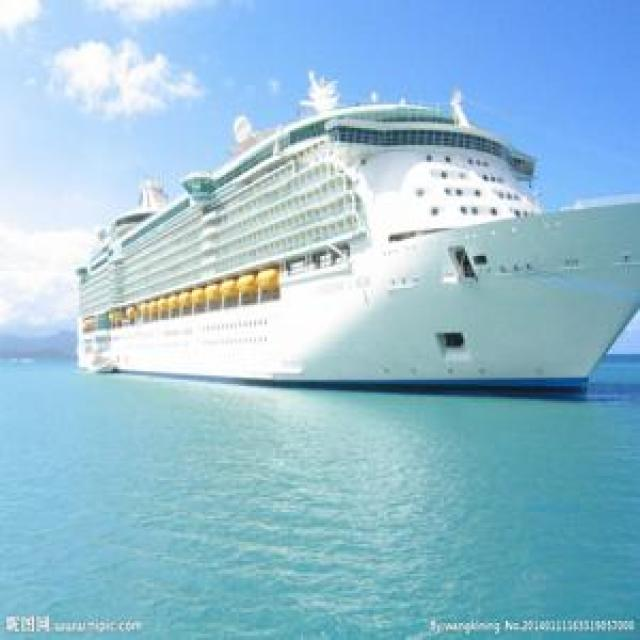passenger ship: (67, 80, 630, 410)
